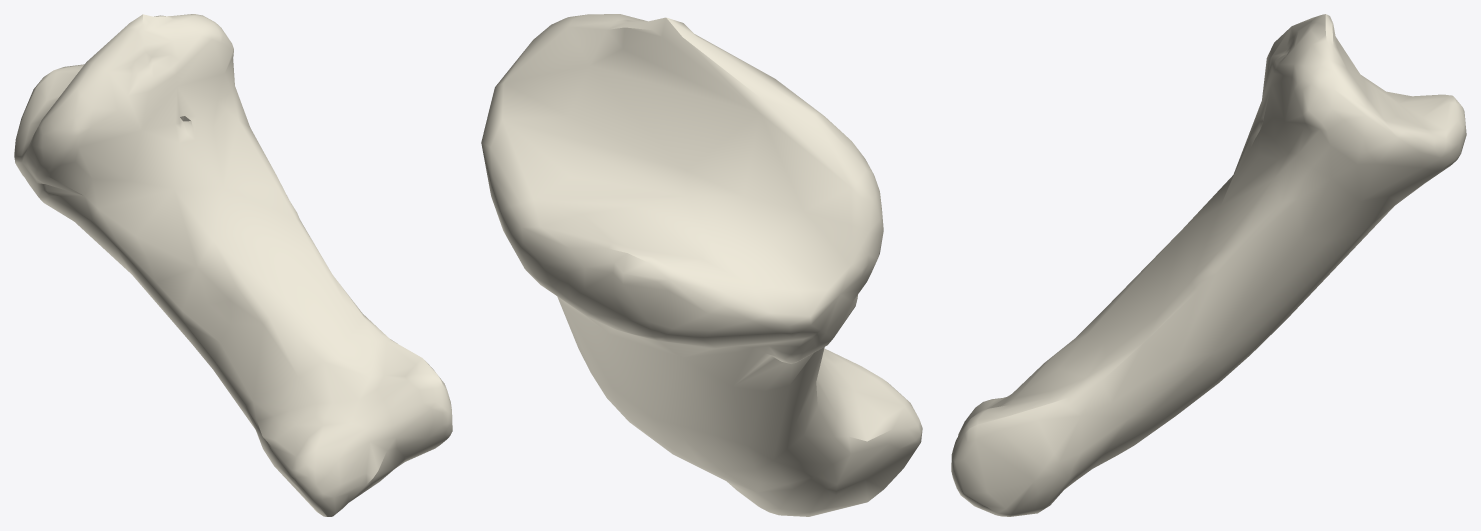
Rendered from fma23938.glb.
The picture shows the model from 3 angles, left to right: view 1: azimuth 30°, elevation 25°; view 2: azimuth 150°, elevation 25°; view 3: azimuth 270°, elevation 25°; orthographic projection. The views are drawn at different scales.
Visible parts, largest first — view 1: FMA23938; view 2: FMA23938; view 3: FMA23938.
Boxes of the visible parts, box(x1,y1,x2,y2) form: FMA23938: box(14, 14, 452, 516); FMA23938: box(481, 14, 922, 516); FMA23938: box(951, 14, 1466, 516).
Size of the model in its own units: 0.0147 by 0.0207 by 0.0209.
